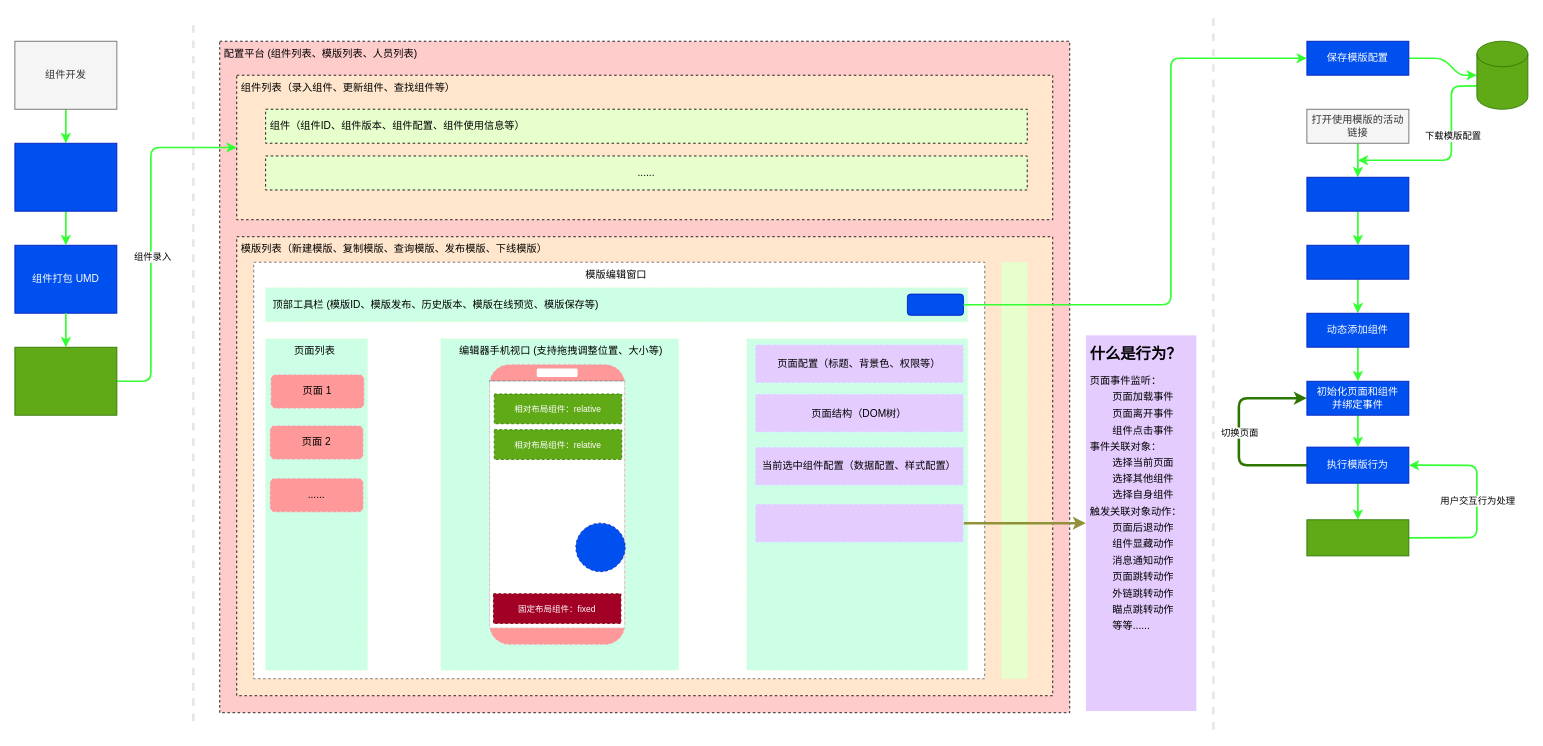
Some shapes in this 1543 by 746 pixel diagram are drawn without their labels. The shapes that lost their labels are listed below. From the top down, each one's box as (x1, y1, x2, y2) in pixels, then its label:
(1476, 40, 1528, 109): 数据库
(14, 142, 117, 211): 组件测试
(1306, 176, 1409, 211): 解析模版配置
(1306, 244, 1409, 279): 下载模版使用组件
(907, 293, 963, 315): 预览
(14, 346, 117, 415): 组件发布CDN
(1001, 261, 1027, 679): 其他模版
(754, 503, 963, 542): 行为列表
(1306, 519, 1409, 556): 用户交互
(575, 522, 625, 572): 绝对布局组件absolute
